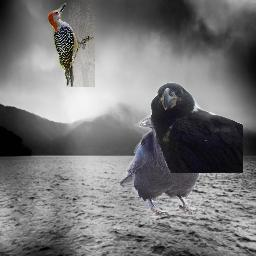Crow: (118, 104, 206, 217), (149, 82, 243, 173)
Woodpecker: (45, 2, 95, 87)
